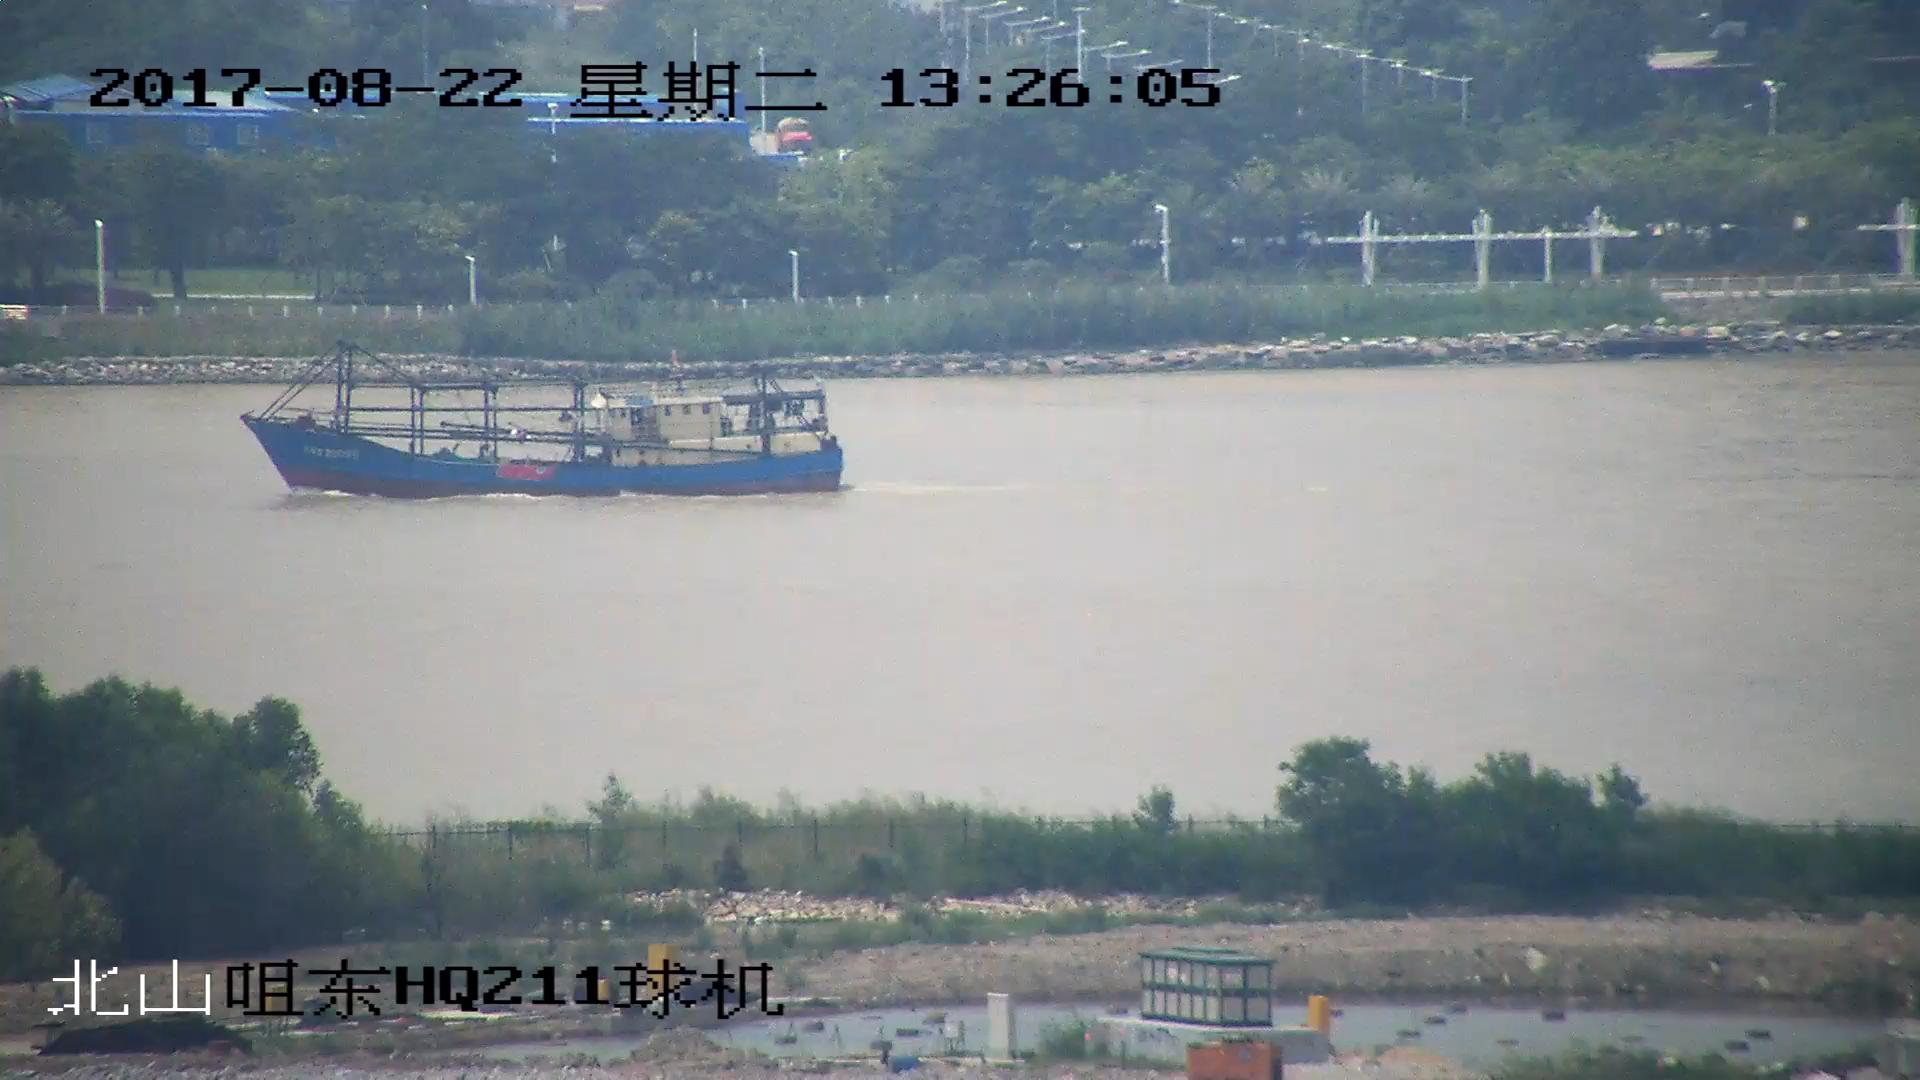fishing boat: (240, 338, 844, 505)
